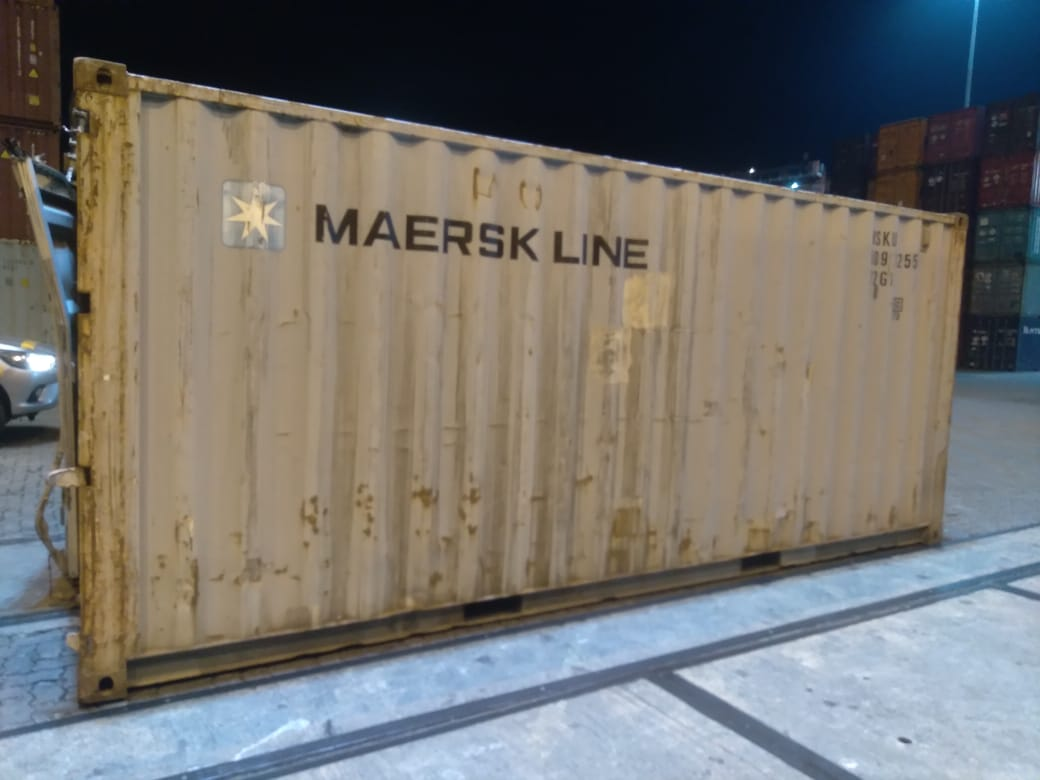bulged: (290, 486, 505, 546), (592, 501, 672, 573)
